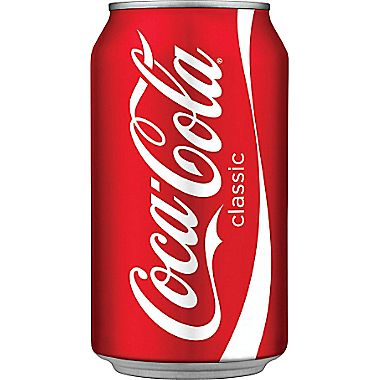can: (85, 2, 294, 380)
